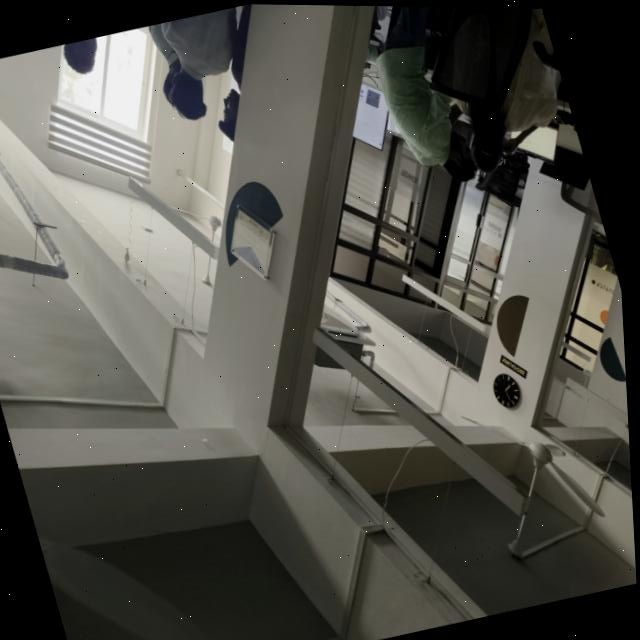fluorescent tube: (295, 282, 555, 565), (112, 152, 258, 283), (383, 252, 497, 357), (557, 356, 634, 501)
